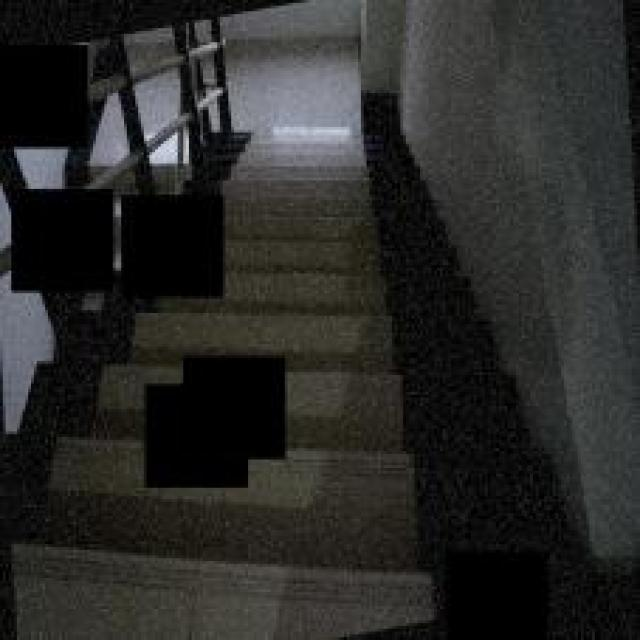downstair: (242, 119, 418, 352)
